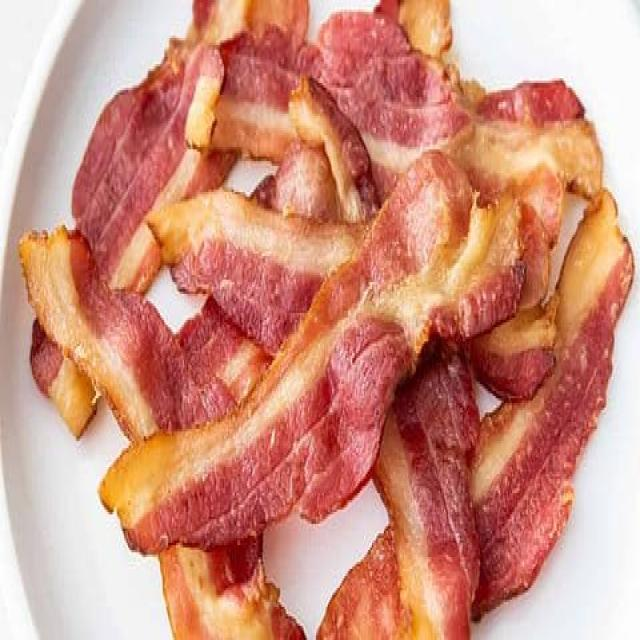bacon: (16, 2, 636, 640)
